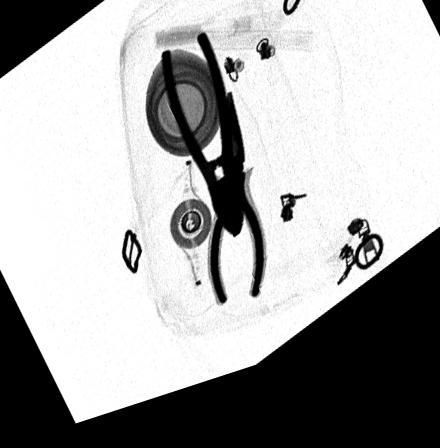Pliers: (160, 39, 245, 253), (207, 103, 265, 321)
